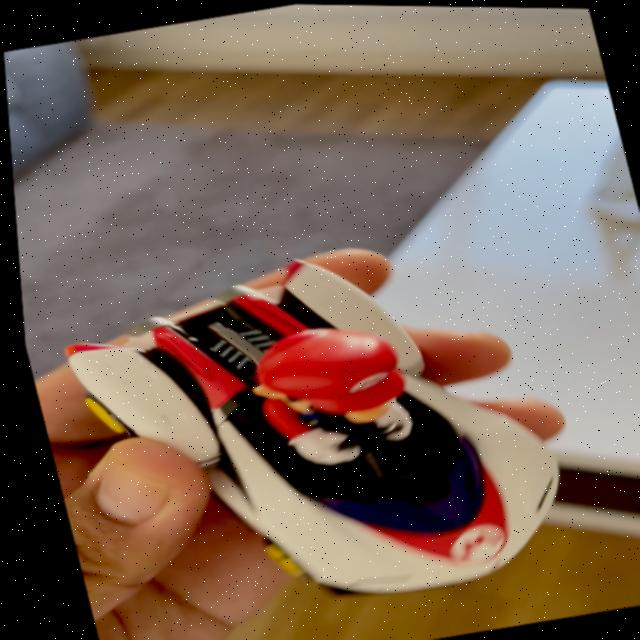mario: (29, 209, 600, 640)
